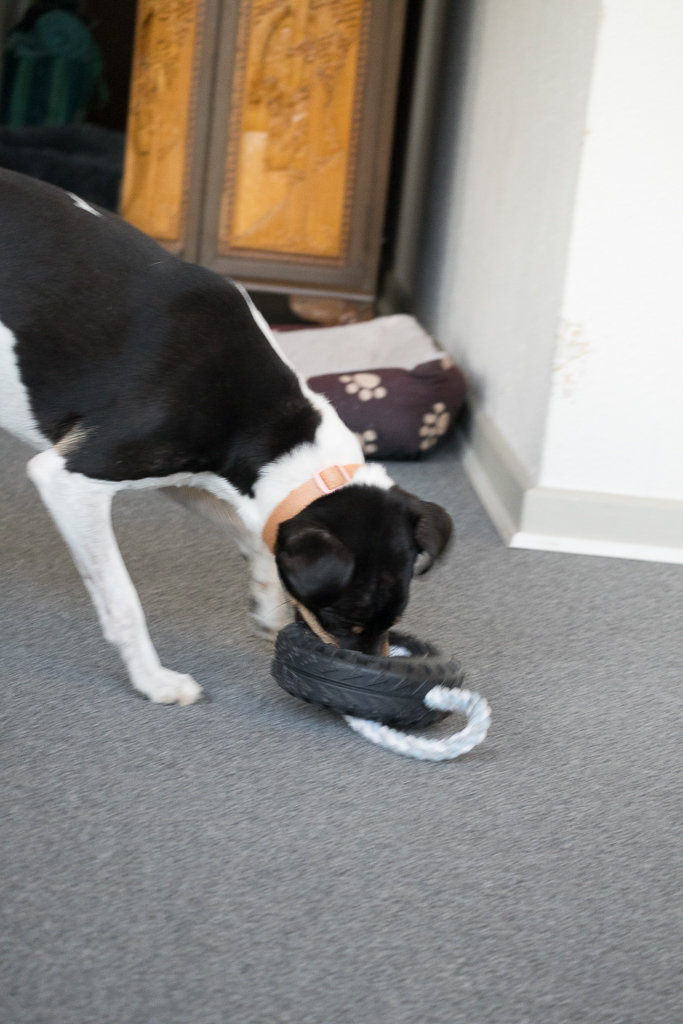Dog: (0, 158, 471, 714)
